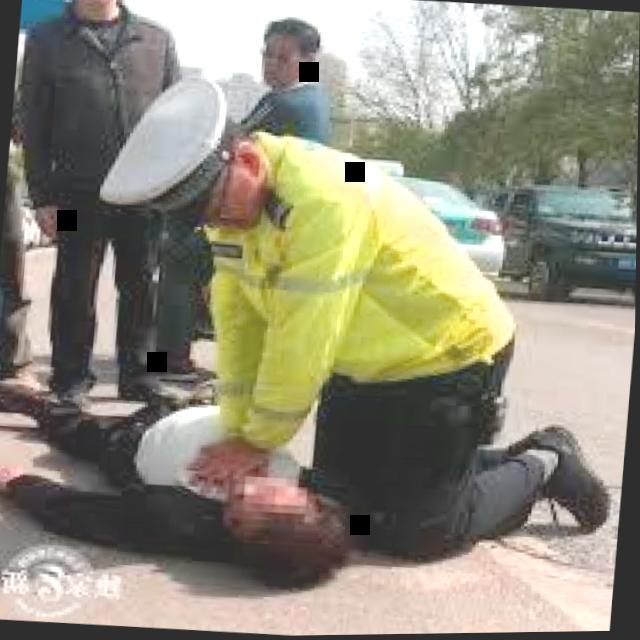Fall-Detected: (0, 347, 378, 594)
